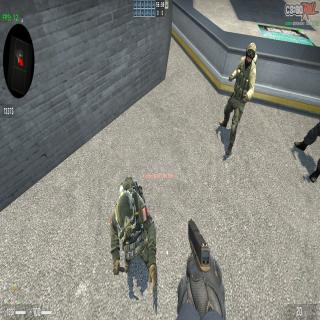CT-Body: (109, 178, 157, 295), (219, 42, 257, 161)
CT-Head: (116, 193, 136, 240), (244, 42, 256, 68)
